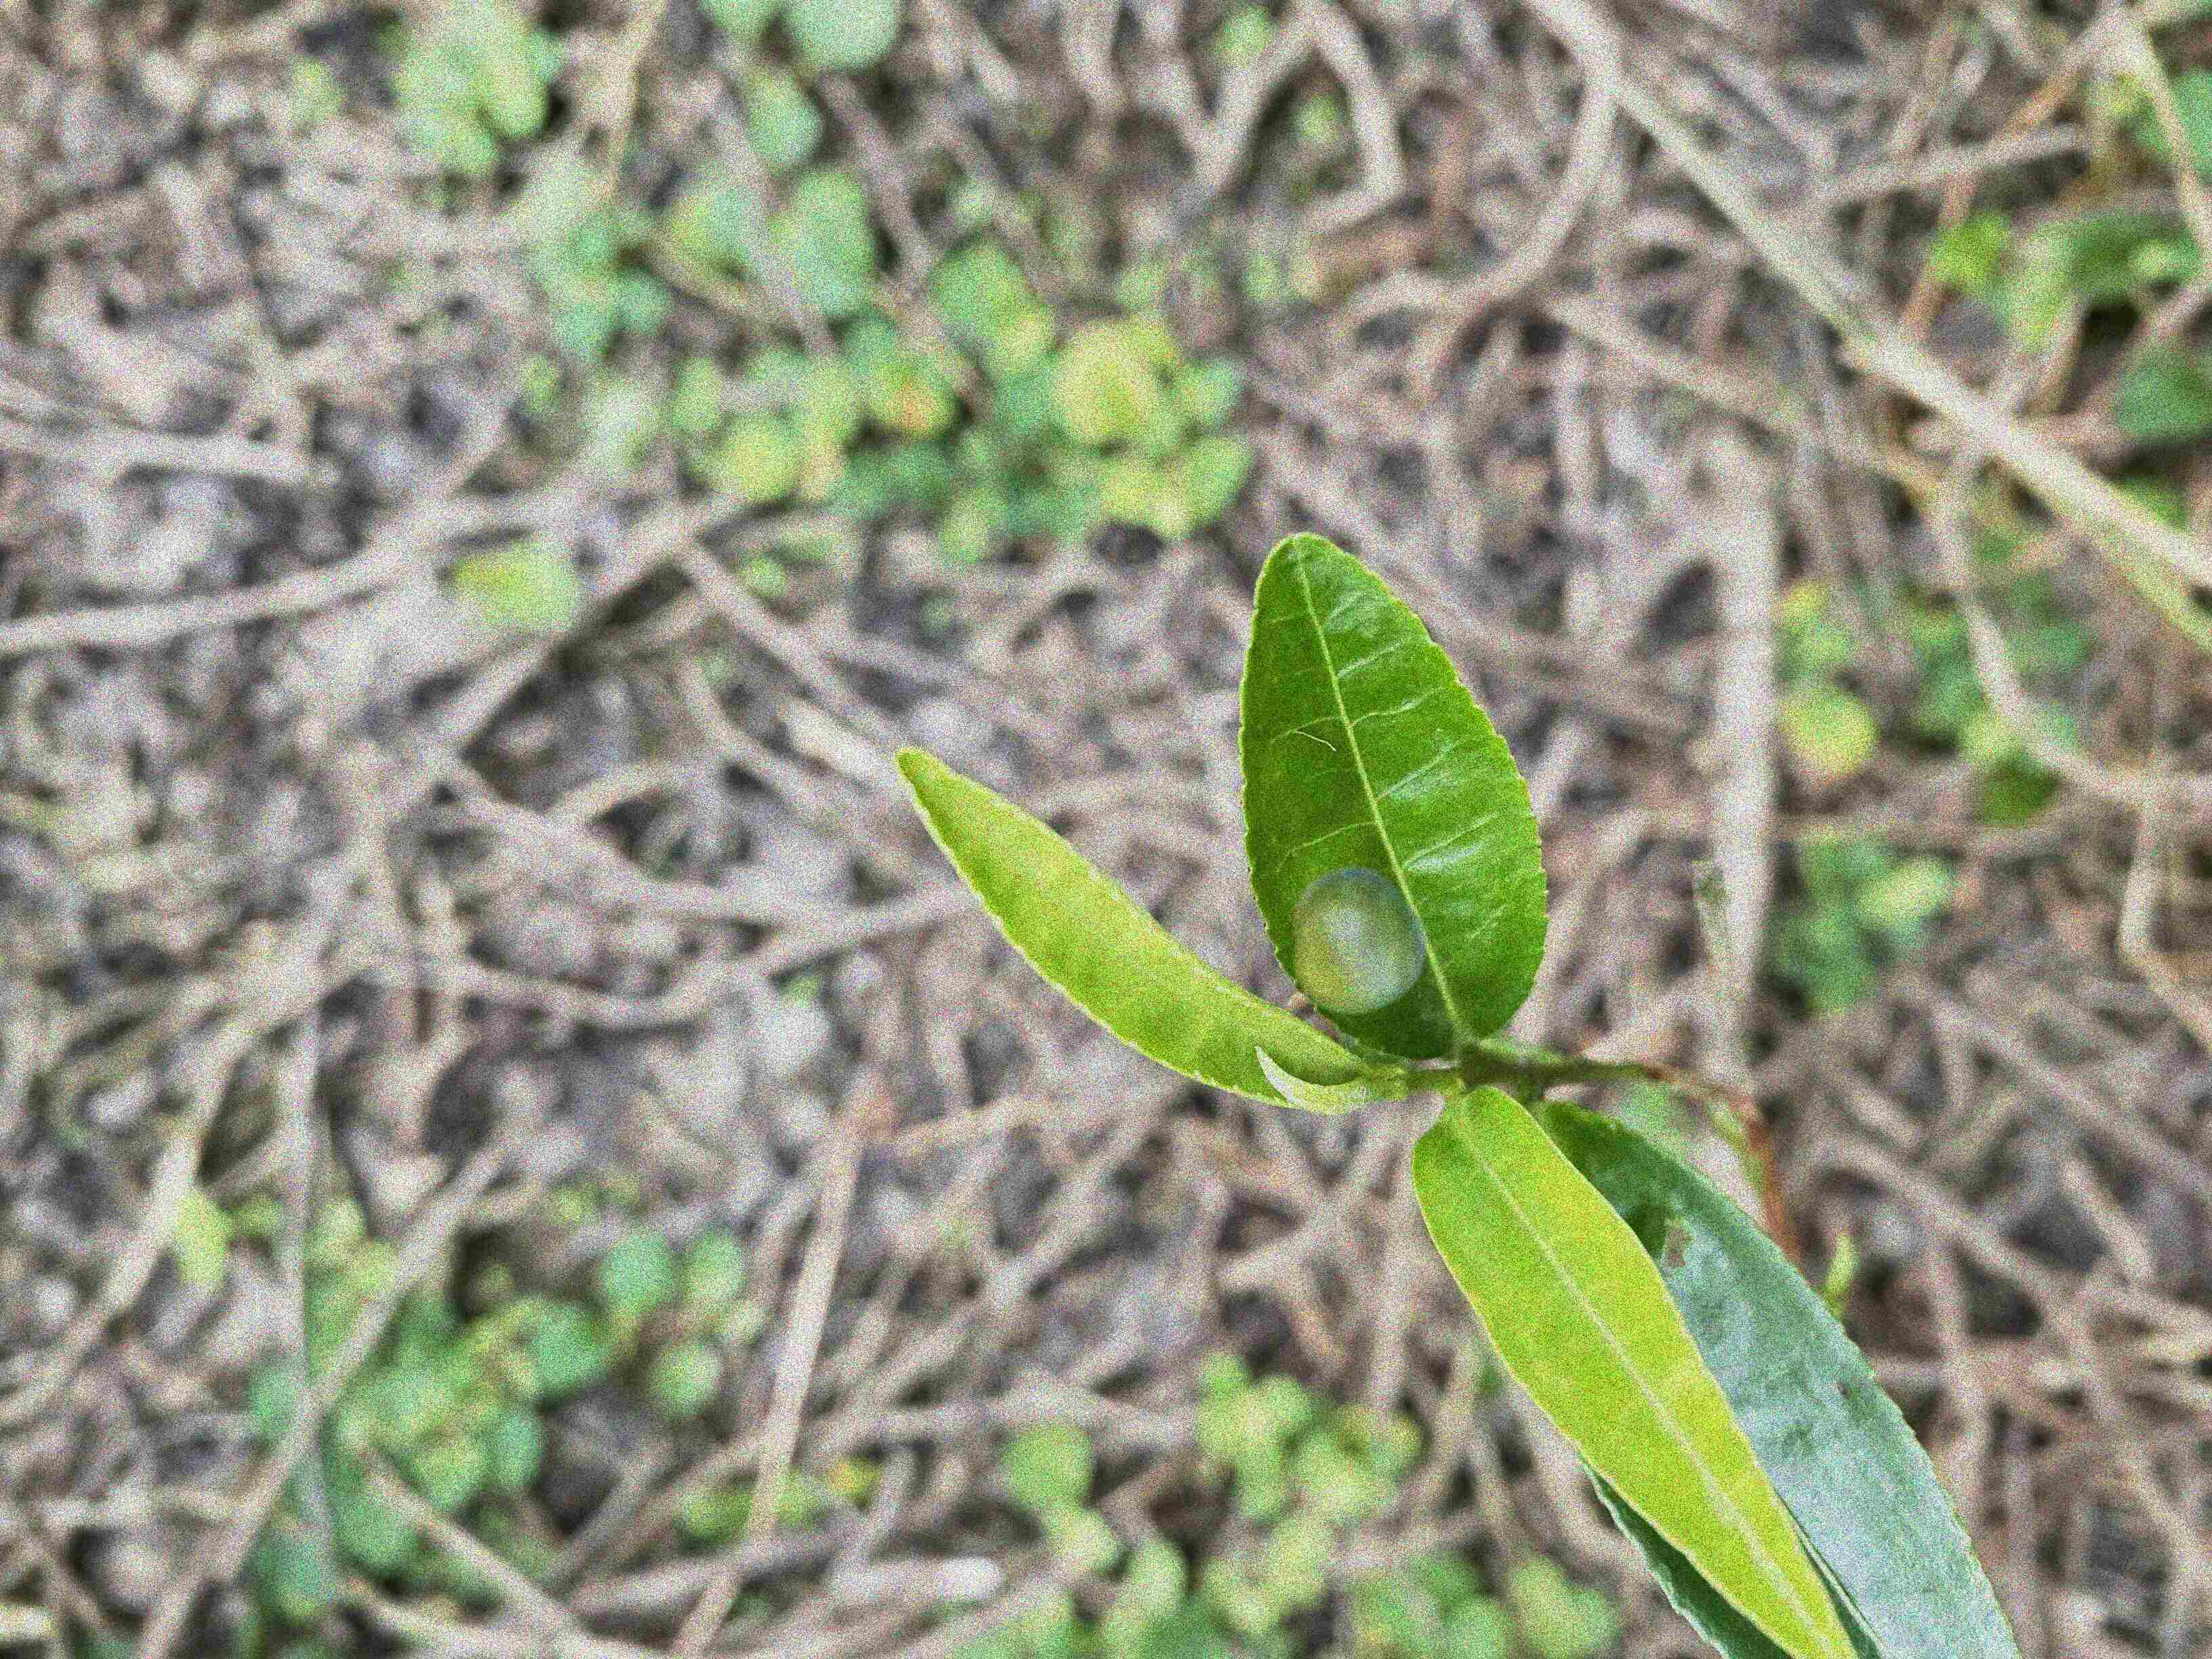chabing_low: (1237, 530, 1555, 1063)
healthy: (1407, 1075, 1858, 1657), (890, 742, 1385, 1114)
tanju_low: (1533, 1098, 2022, 1657)
